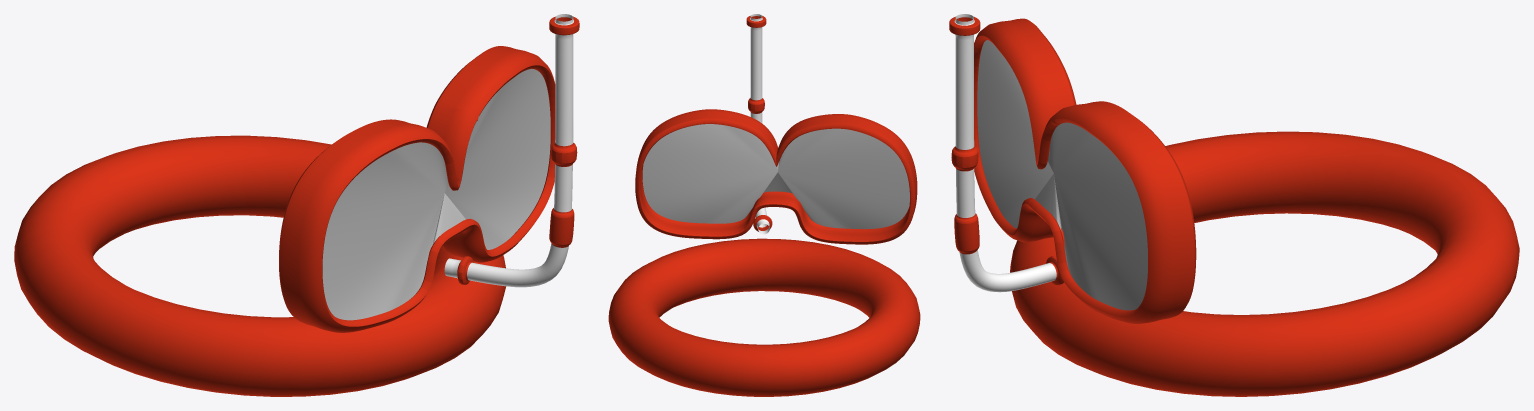
The picture shows the model from 3 angles, left to right: view 1: azimuth 30°, elevation 25°; view 2: azimuth 150°, elevation 25°; view 3: azimuth 270°, elevation 25°; orthographic projection. The views are drawn at different scales.
Visible parts, largest first — view 1: float, GLASS, bevelPolygon1, scuba_mouth; view 2: float, GLASS, bevelPolygon1, scuba_mouth; view 3: float, bevelPolygon1, GLASS, scuba_mouth.
Part boxes in pixels (bbox=[...]): float: bbox=[14, 135, 506, 396]; GLASS: bbox=[322, 68, 550, 320]; bevelPolygon1: bbox=[279, 46, 555, 332]; scuba_mouth: bbox=[444, 14, 579, 287]; float: bbox=[608, 238, 920, 396]; GLASS: bbox=[642, 124, 909, 229]; bevelPolygon1: bbox=[635, 109, 917, 244]; scuba_mouth: bbox=[746, 14, 772, 234]; float: bbox=[1010, 131, 1519, 396]; bevelPolygon1: bbox=[974, 18, 1196, 323]; GLASS: bbox=[977, 40, 1147, 310]; scuba_mouth: bbox=[949, 14, 1063, 292].
Bounding box in the file's own units: 113 × 120 × 86.25.
